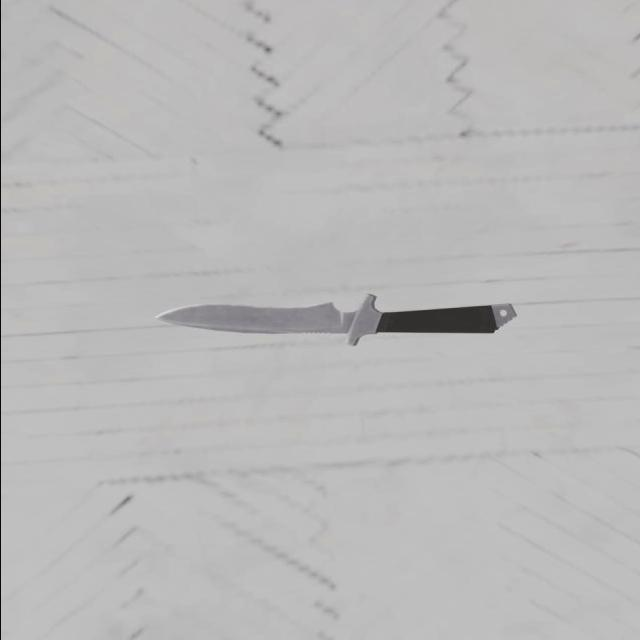knife: (376, 304, 502, 332)
